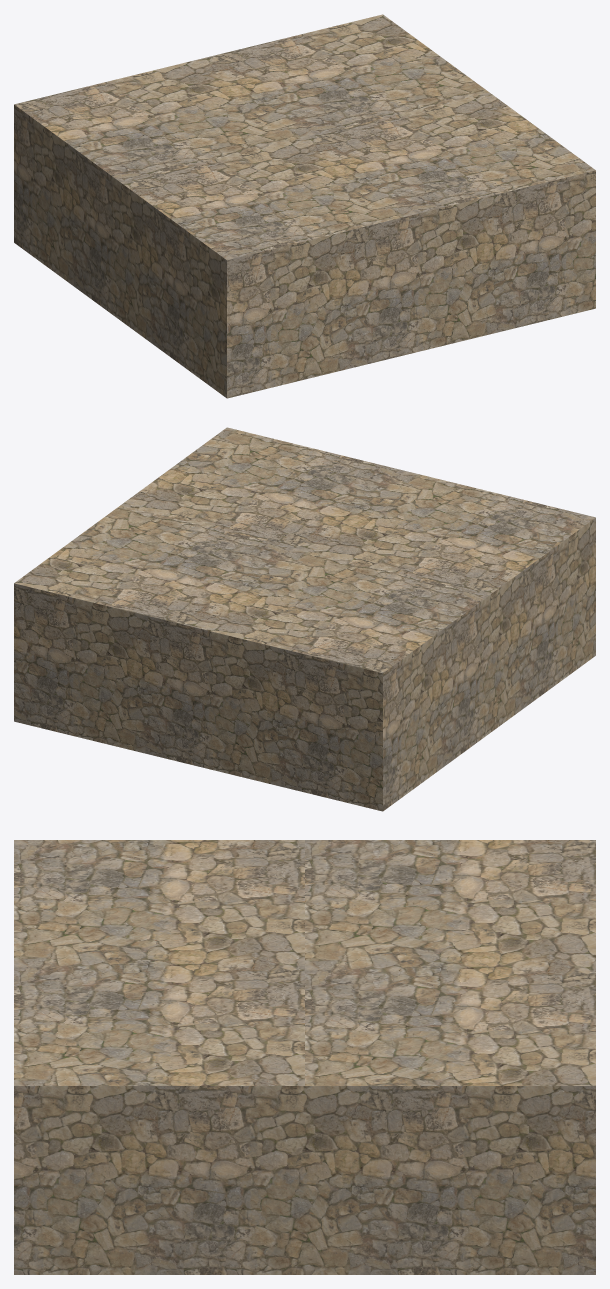
The model's file is platform_24x24.dae.
The picture shows the model from 3 angles, top to bottom: view 1: azimuth 30°, elevation 25°; view 2: azimuth 150°, elevation 25°; view 3: azimuth 270°, elevation 25°; orthographic projection. The views are drawn at different scales.
Visible parts, largest first — view 1: Cube; view 2: Cube; view 3: Cube.
Boxes of the visible parts, bbox=[...] form: Cube: bbox=[14, 14, 595, 398]; Cube: bbox=[14, 427, 595, 811]; Cube: bbox=[14, 840, 595, 1274].
Size of the model in its own units: 24 by 24 by 8.59.
